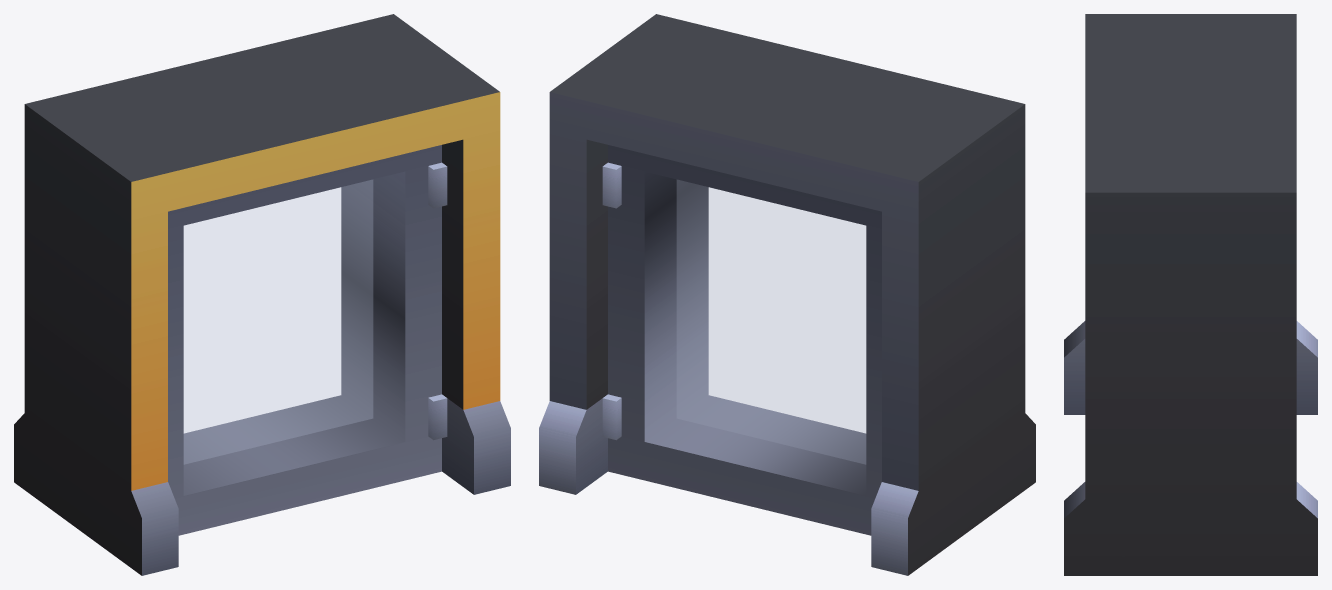
File: wall-window.glb
The picture shows the model from 3 angles, left to right: view 1: azimuth 30°, elevation 25°; view 2: azimuth 150°, elevation 25°; view 3: azimuth 270°, elevation 25°; orthographic projection.
Parts seen in each view (by area): view 1: wall-window, (%ignore); view 2: wall-window, (%ignore); view 3: wall-window.
Part boxes in pixels (x1=…): wall-window: x1=14, y1=14, x2=510, y2=575; (%ignore): x1=184, y1=180, x2=372, y2=464; wall-window: x1=539, y1=14, x2=1035, y2=575; (%ignore): x1=677, y1=180, x2=865, y2=464; wall-window: x1=1064, y1=14, x2=1317, y2=575.
Bounding box in the file's own units: 1 × 1 × 0.6001.
Materials: 2 (1 with a texture image).
